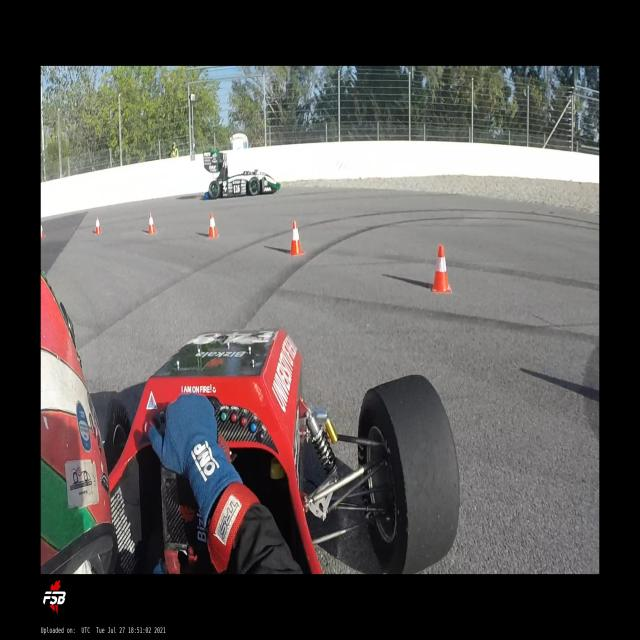orange_cone: (430, 244, 451, 293), (289, 221, 306, 256), (208, 212, 218, 238), (146, 212, 157, 234), (94, 216, 102, 235), (41, 224, 45, 239)
